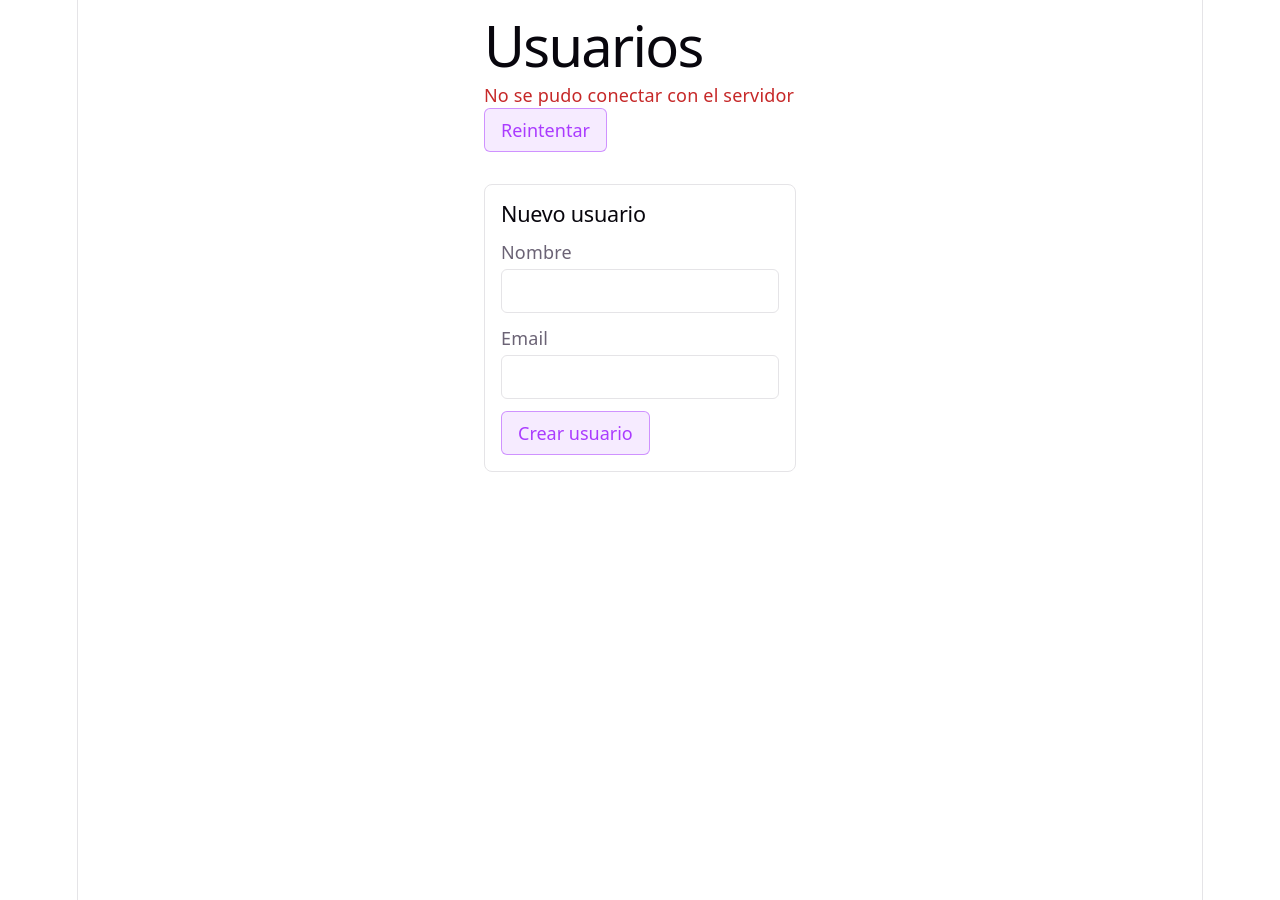
Test: UsuariosPage › muestra el usuario creado aunque la carga inicial haya fallado
Expected: the message shows "No se pudo conectar con el servidor", [484,83,794,107]
Step 1. Type "Eva" into the field labelled "Nombre" → (640, 291), box [501,269,779,313]
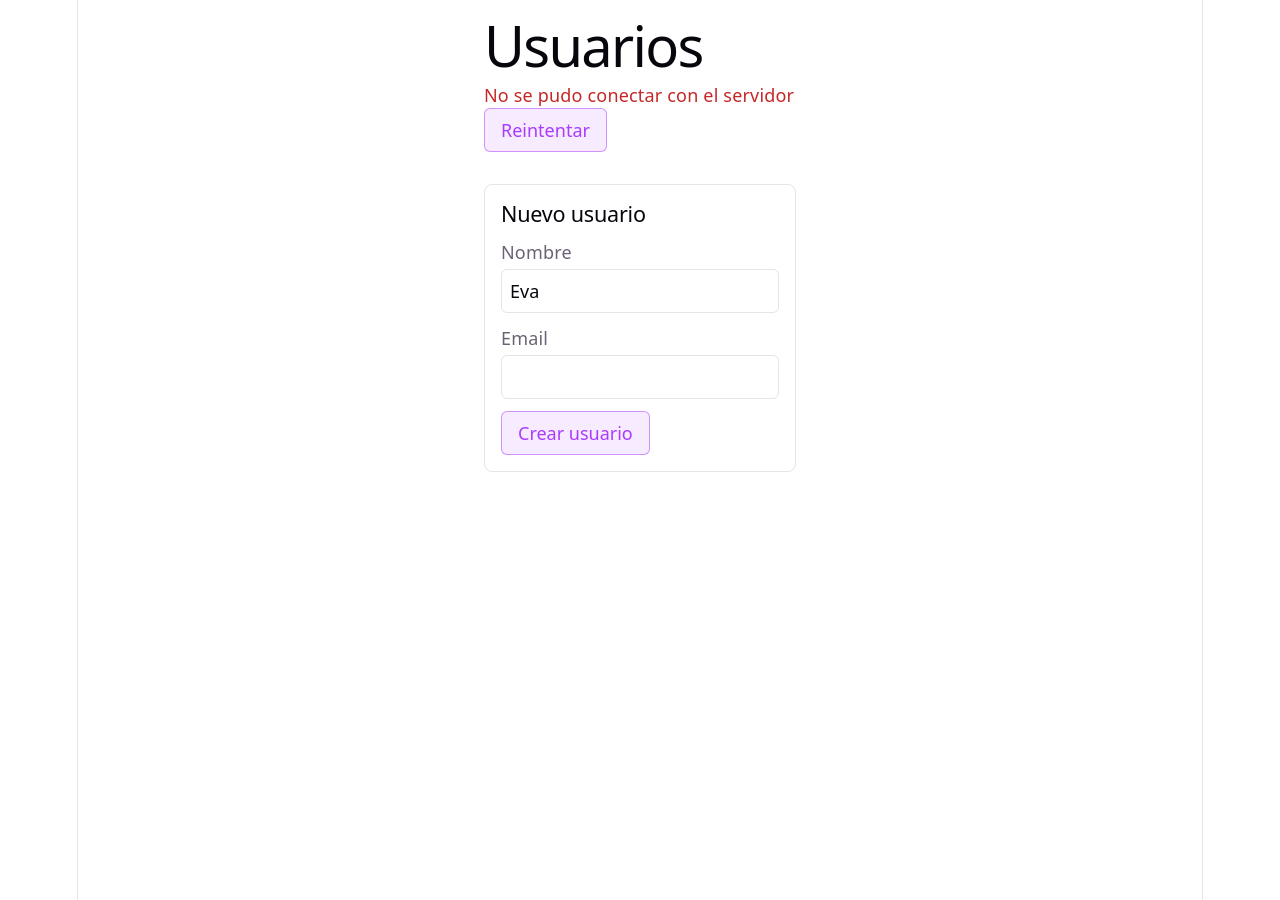
Step 2. Type "eva@ejemplo.com" into the field labelled "Email" → (640, 377), box [501,355,779,399]
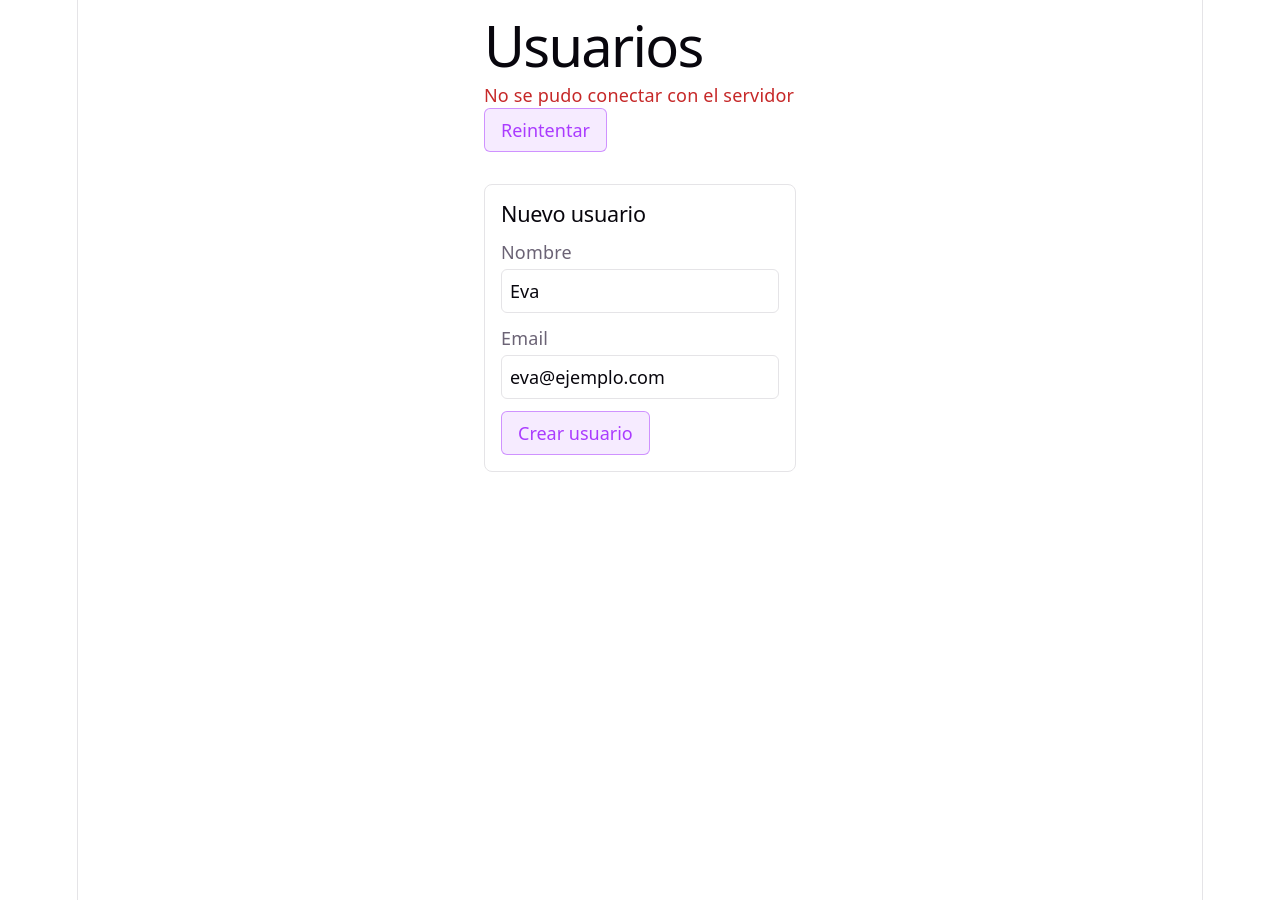
Step 3. Click the button "Crear usuario" → (575, 433), box [501,411,650,455]
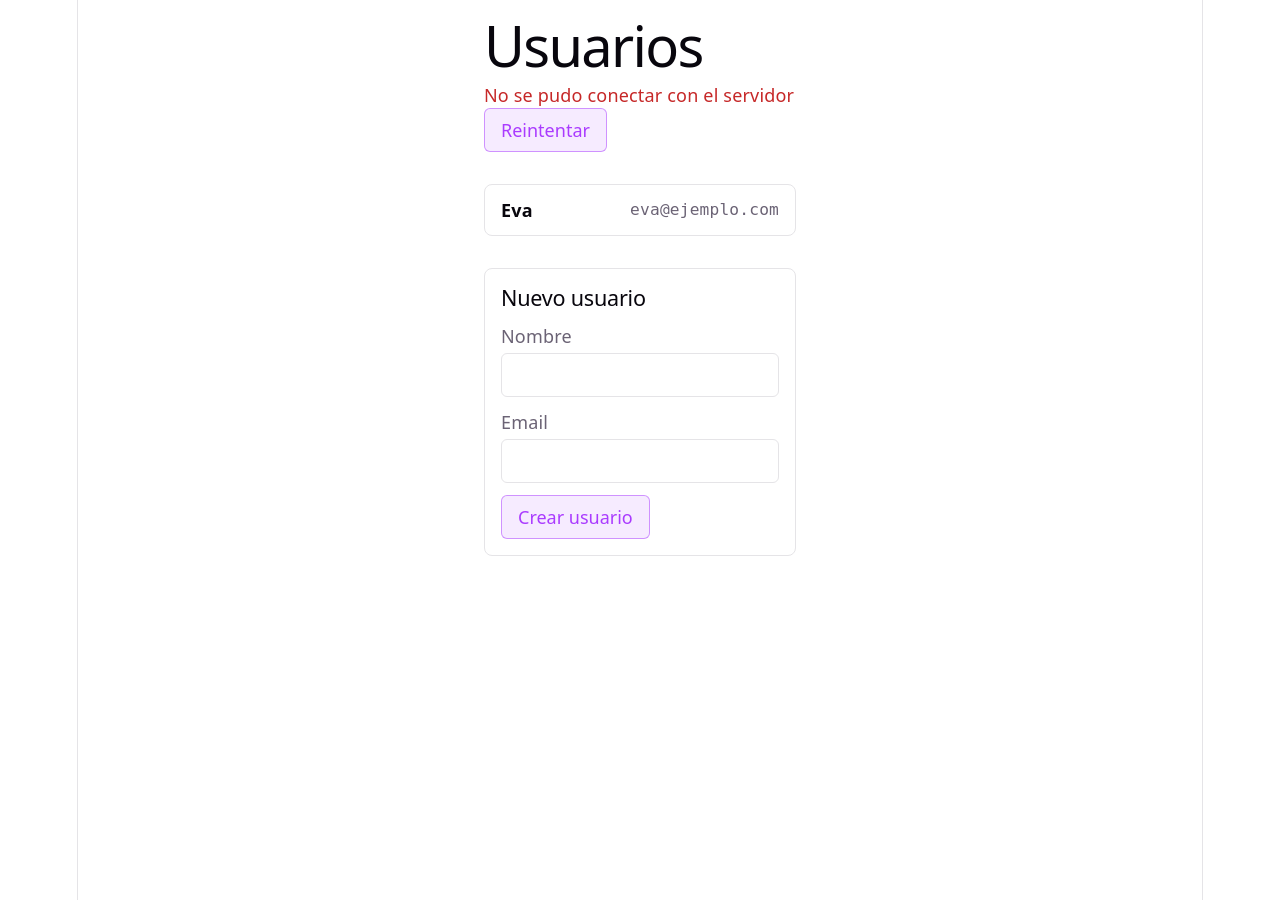
Expected: the message shows "No se pudo conectar con el servidor", [484,83,794,107]
Now the list item shows "Eva", box [501,198,533,222]
Now the list item shows "eva@ejemplo.com", box [630,200,779,219]
